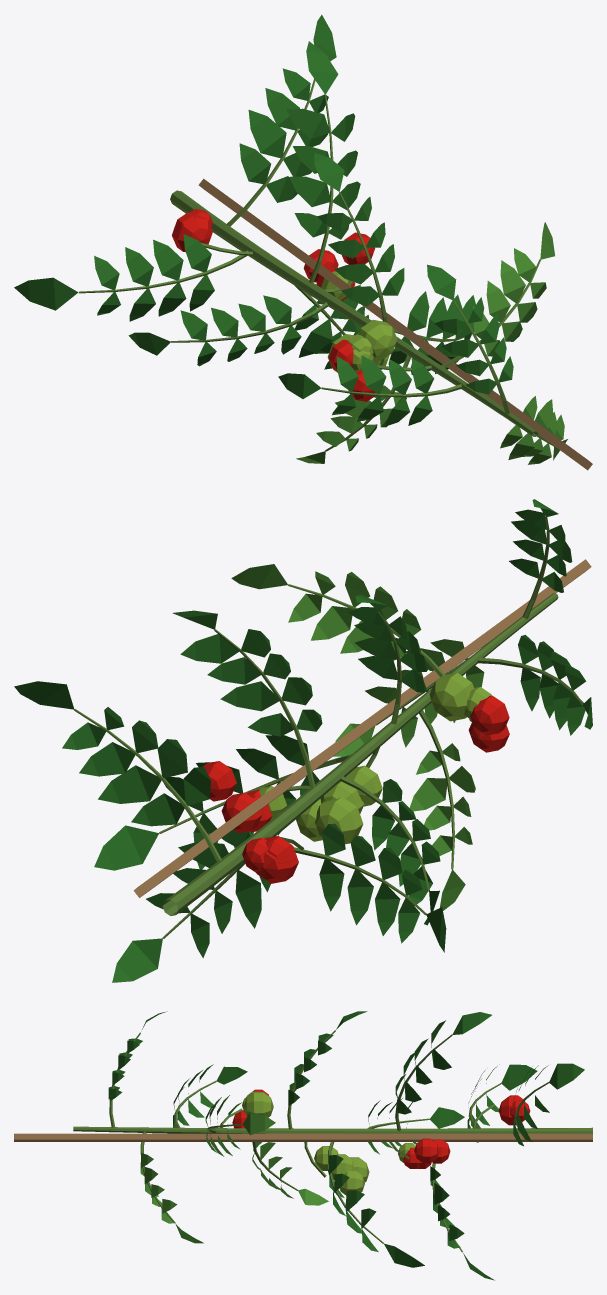
Rendered from tomato_01.obj.
3 views of the same model, one above another, from view 1: azimuth 30°, elevation 25°; view 2: azimuth 150°, elevation 25°; view 3: azimuth 270°, elevation 25° (orthographic). The views are drawn at different scales.
Parts seen in each view (by area): view 1: tomato_01; view 2: tomato_01; view 3: tomato_01.
Boxes of the visible parts, x1,y1,x2,y2 form: tomato_01: (14,14,592,470); tomato_01: (14,499,592,982); tomato_01: (14,1011,592,1280).
Bounding box in the file's own units: 0.6626 × 0.555 × 1.17.
